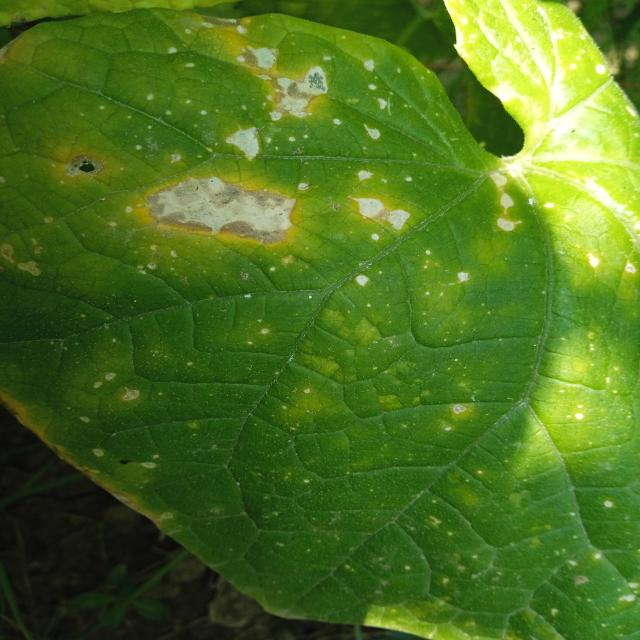cucumber_downy: (10, 26, 640, 564)
